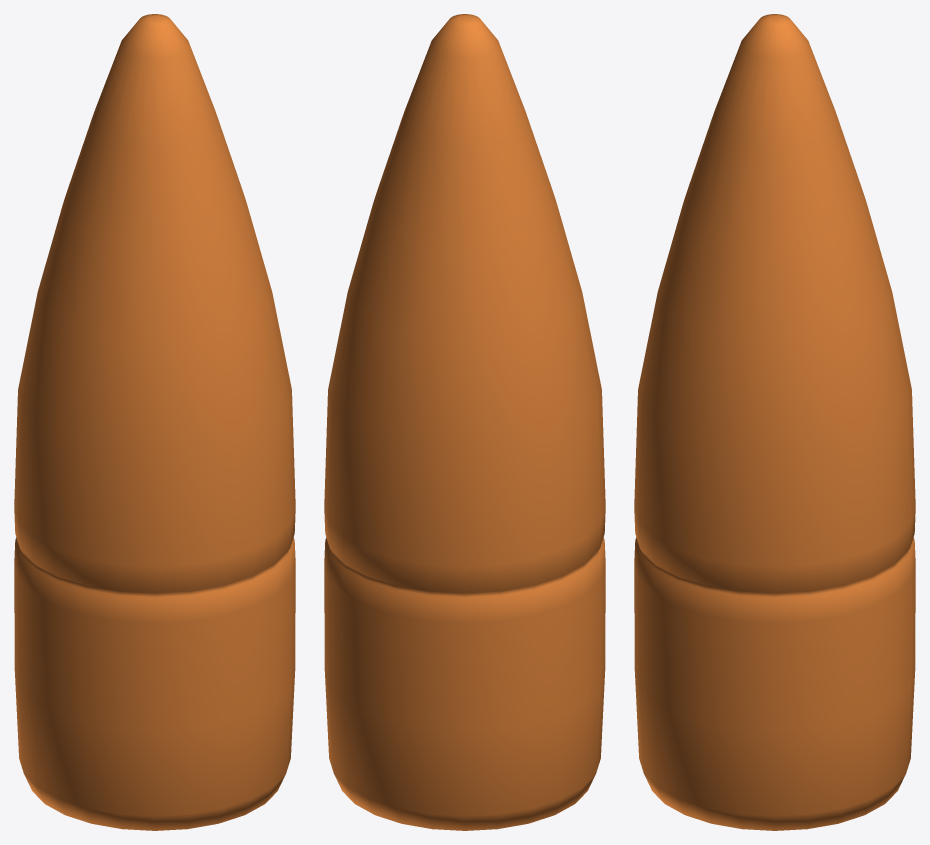
Rendered from Bullet-small.fbx.
3 views of the same model, side by side, from view 1: azimuth 30°, elevation 25°; view 2: azimuth 150°, elevation 25°; view 3: azimuth 270°, elevation 25° (orthographic).
Visible parts, largest first — view 1: Bullet; view 2: Bullet; view 3: Bullet.
Part boxes in pixels (x1,y1,x2,y2): Bullet: (14,14,295,830); Bullet: (324,14,605,830); Bullet: (634,14,915,830).
Bounding box in the file's own units: 106 × 315 × 106.
